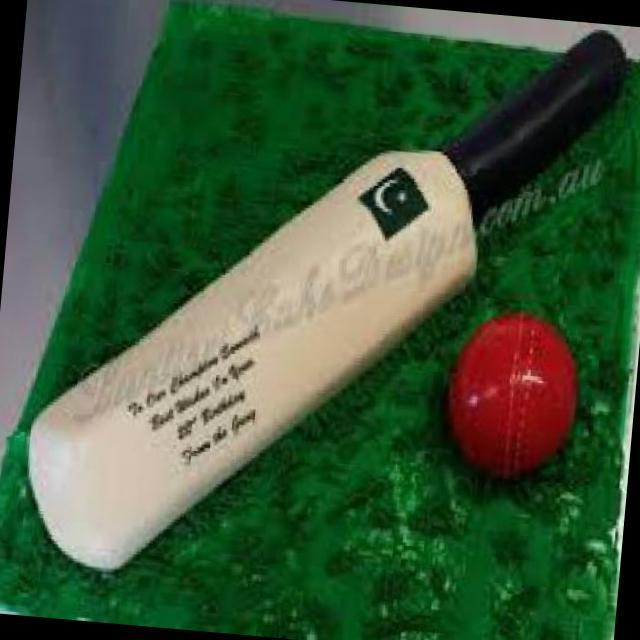-: (437, 314, 602, 493)
